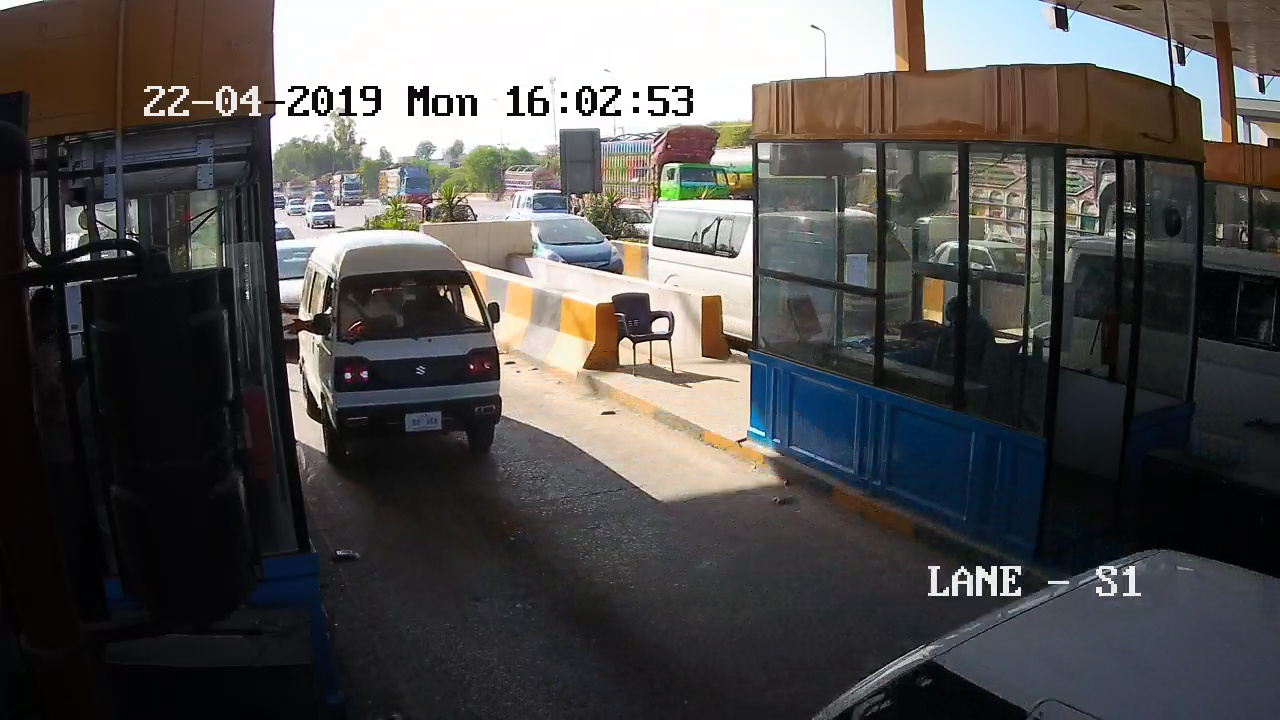Number Plate (Car): (404, 411, 444, 429)
